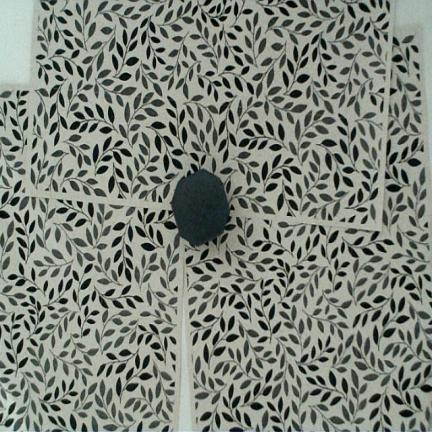Prisma_hexagonal: (170, 169, 230, 247)
